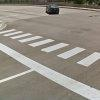crosswalks: (0, 28, 100, 68)
